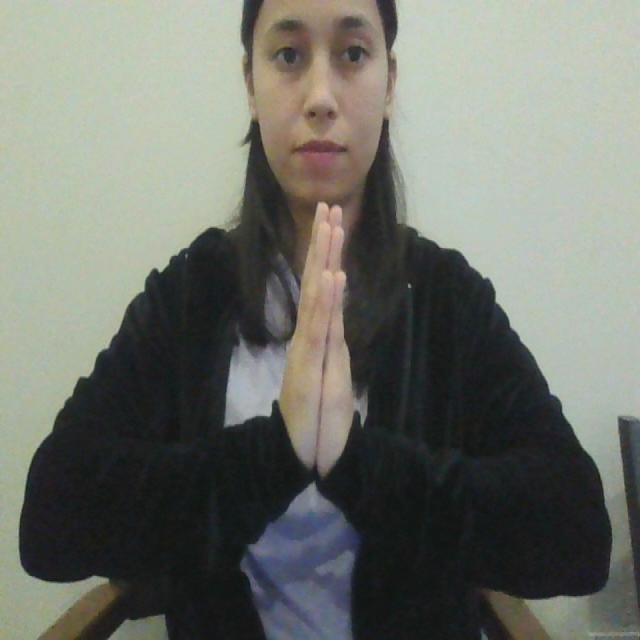Ozur-Dilemek: (274, 194, 362, 488)
